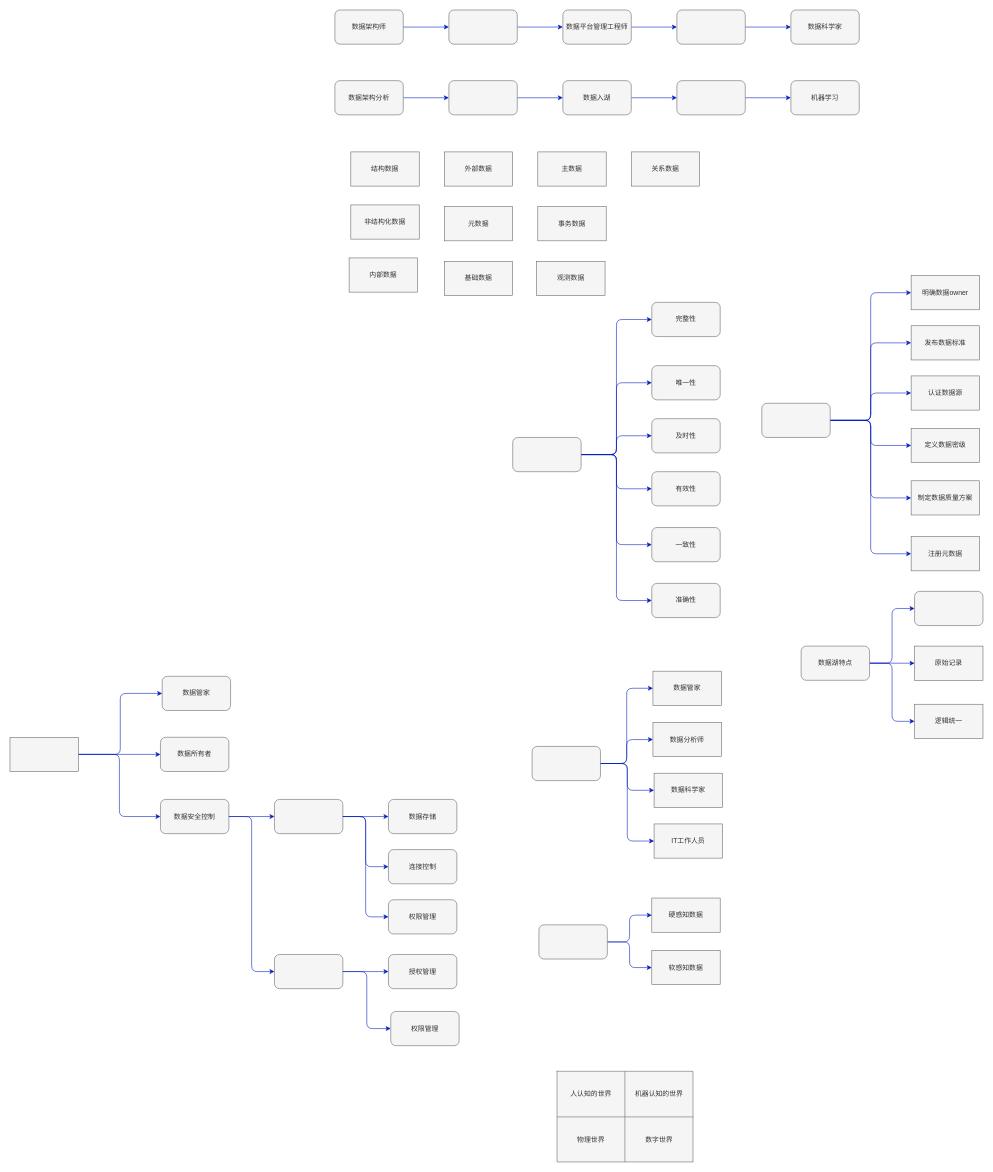
This 993x1172 diagram has some shape labels left out. The centre of each missing label's shape, as x and y in pixels:
"动态控制" belongs at (308,971).
"数据使用者" belongs at (566,763).
"数据入湖步骤" belongs at (795,420).
"数据分析工程师" belongs at (710,26).
"数据来源" belongs at (572,941).
"数据治理" belongs at (482,97).
"数据治理工程师" belongs at (482,26).
"数据质量标准" belongs at (546,454).
"特征工程" belongs at (710,97).
"类型多样" belongs at (948,608).
"行政类" belongs at (43,754).
"静态控制" belongs at (308,816).
